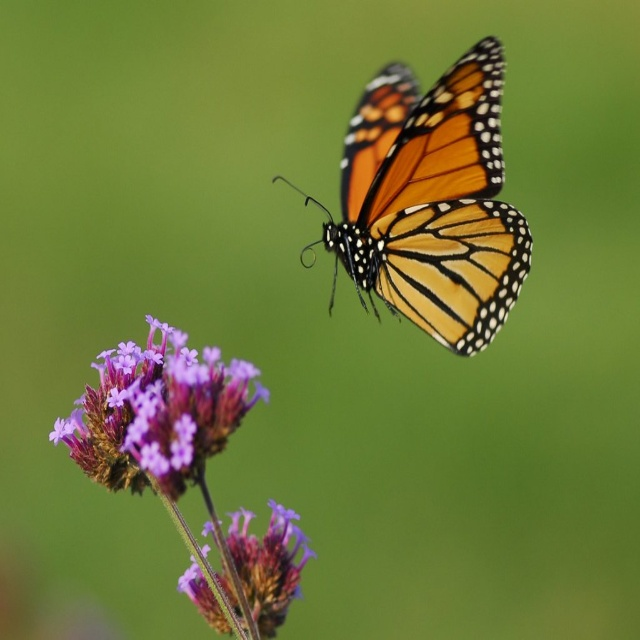Butterfly: (286, 37, 528, 383)
